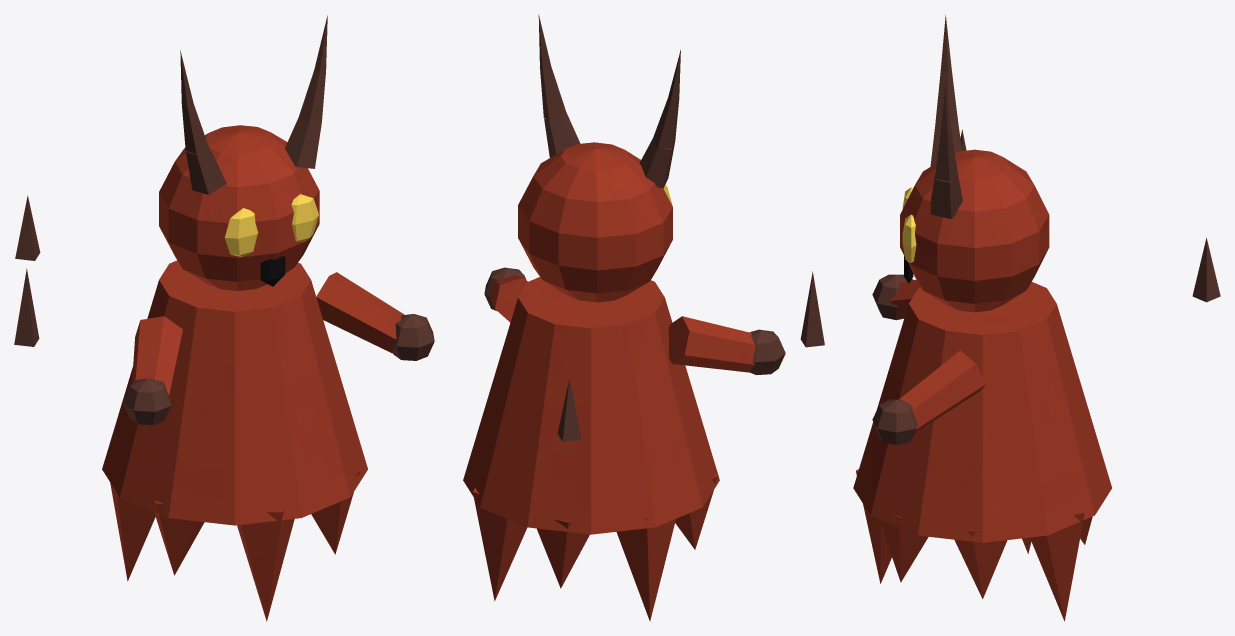
Rendered from mon_sp_fire_imp.glb.
3 renders of one model, left to right at view 1: azimuth 30°, elevation 25°; view 2: azimuth 150°, elevation 25°; view 3: azimuth 270°, elevation 25°, orthographic. The views are drawn at different scales.
Parts seen in each view (by area): view 1: mon_sp_fire_imp; view 2: mon_sp_fire_imp; view 3: mon_sp_fire_imp.
Boxes of the visible parts, x1,y1,x2,y2 form: mon_sp_fire_imp: [14, 15, 434, 621]; mon_sp_fire_imp: [463, 14, 824, 621]; mon_sp_fire_imp: [853, 15, 1220, 621].
Bounding box in the file's own units: 0.642 × 0.8929 × 0.5453.
Materials: 4 (2 with a texture image).
